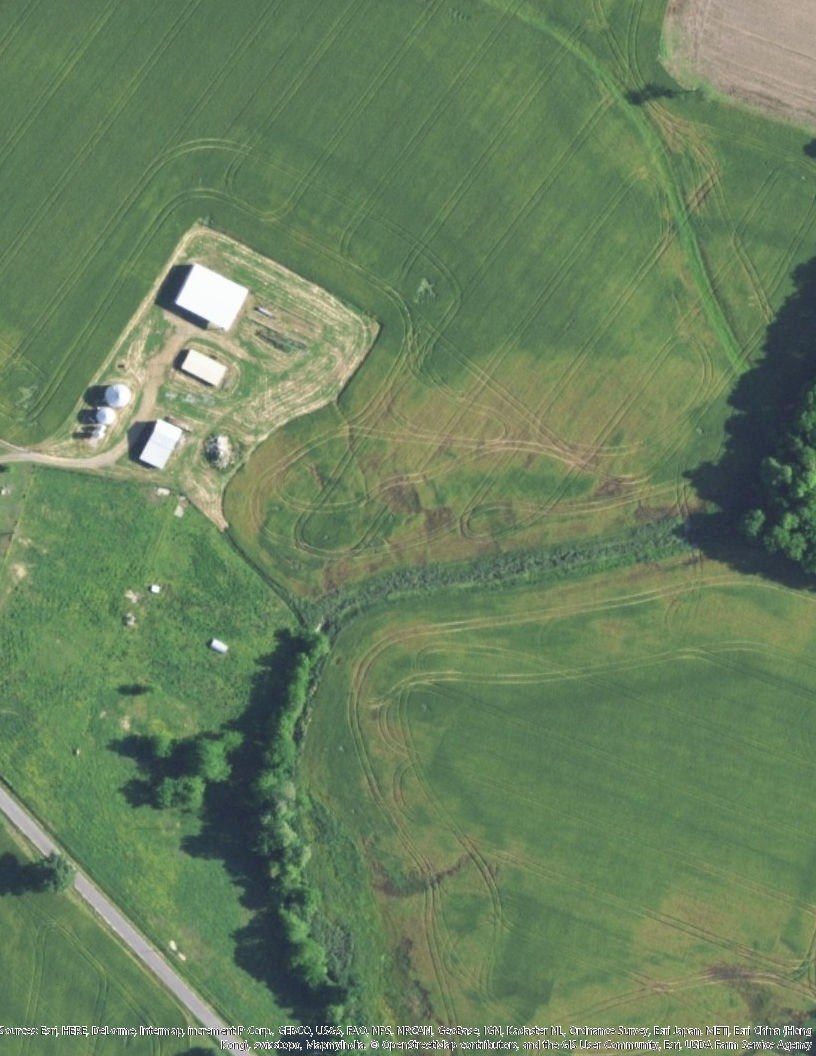cafo: (139, 416, 183, 468)
